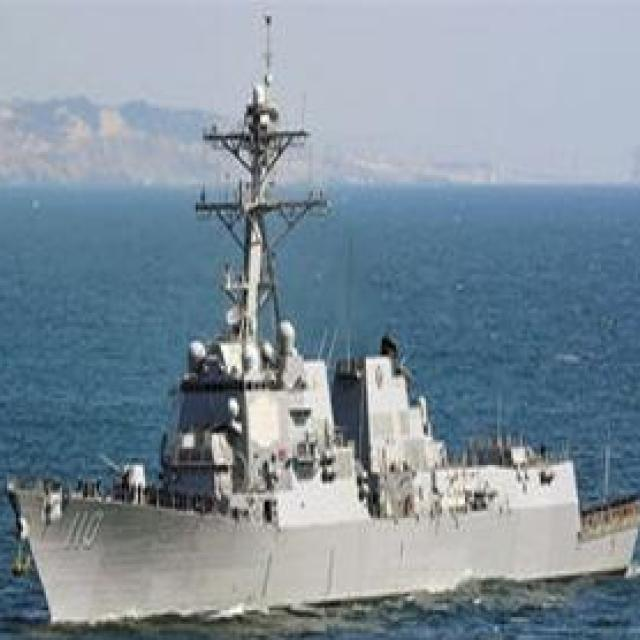navalvessels: (2, 99, 640, 608)
